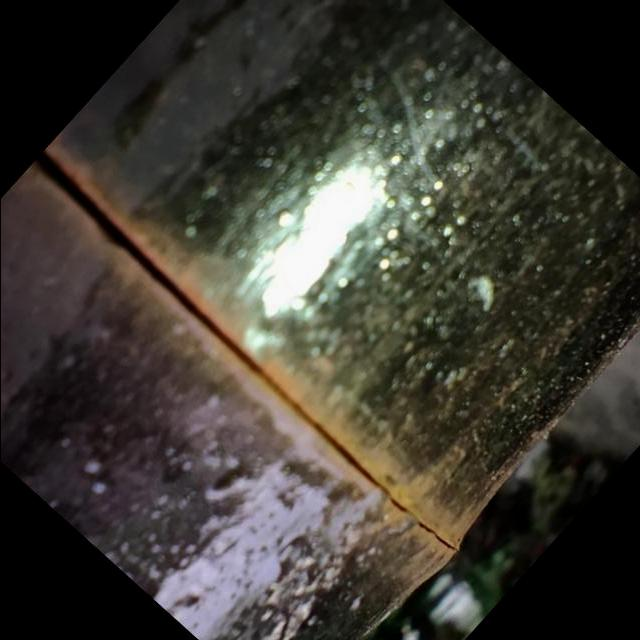defect: (30, 144, 462, 553)
